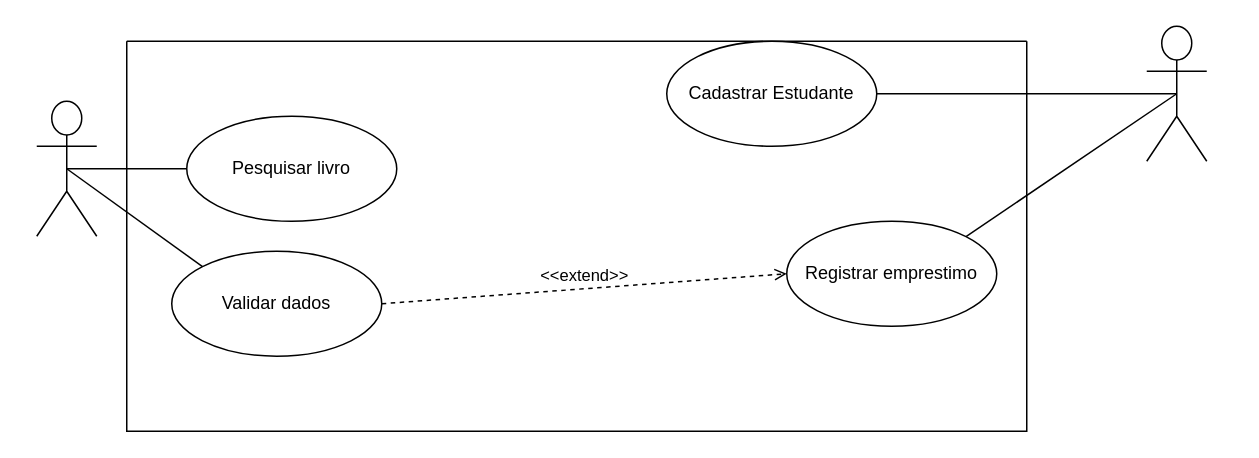
This 1259x458 diagram has some shape labels left out. Each missing label, with the box of its shape:
Estudante: (35, 100, 97, 236)
Recepcionista: (1145, 25, 1207, 161)
